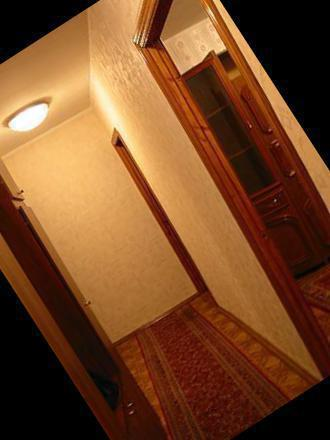Armario: (0, 106, 190, 440)
